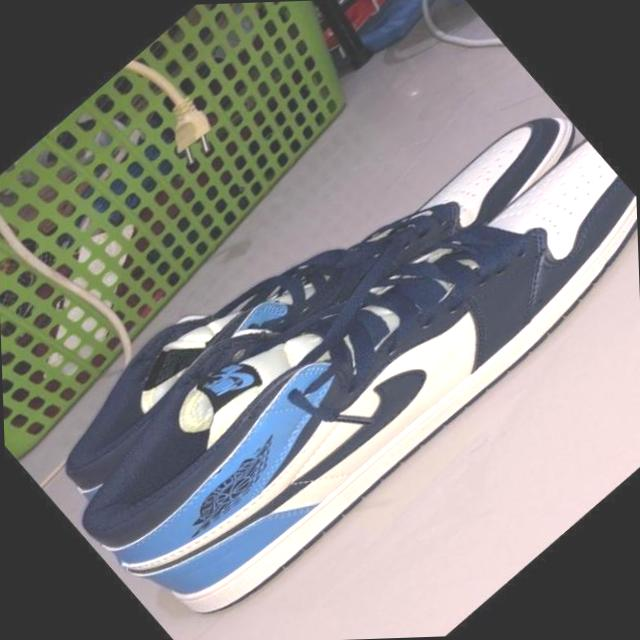nike_fake_jordan: (35, 65, 640, 640), (1, 34, 601, 564)
